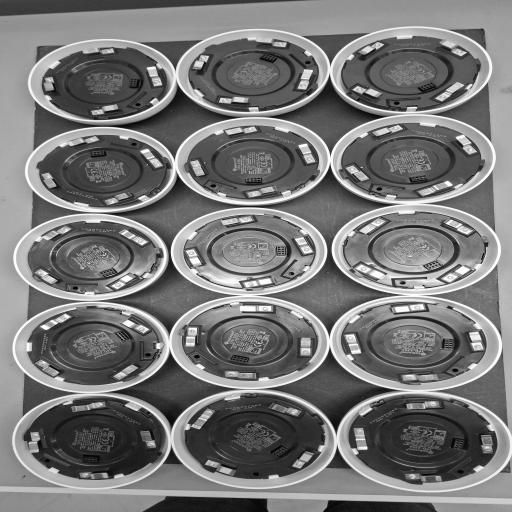konnektor: (228, 354, 254, 365), (448, 437, 466, 452), (98, 267, 117, 280), (422, 260, 444, 271), (270, 445, 288, 458), (79, 454, 102, 464), (86, 150, 114, 158), (407, 174, 431, 183), (258, 53, 279, 63), (112, 330, 129, 342), (417, 82, 436, 92), (442, 336, 454, 350), (275, 246, 289, 258), (128, 78, 144, 88), (246, 177, 266, 184)
yaysiz: (203, 459, 245, 478), (414, 180, 458, 197), (39, 312, 76, 332), (188, 408, 216, 434), (264, 401, 302, 420), (240, 272, 280, 290), (290, 231, 316, 258), (32, 357, 65, 378), (400, 469, 446, 484), (248, 34, 291, 50), (115, 228, 151, 247), (352, 263, 390, 281), (443, 262, 474, 284), (289, 448, 320, 470), (436, 39, 470, 59), (109, 362, 143, 382), (356, 217, 391, 236), (442, 217, 477, 236), (293, 142, 318, 168), (450, 133, 478, 156), (386, 300, 432, 314), (341, 331, 366, 356), (218, 124, 262, 138), (136, 427, 161, 451), (475, 430, 498, 456), (182, 248, 209, 270), (367, 123, 404, 139), (24, 429, 45, 457), (437, 82, 466, 102), (292, 68, 316, 92), (138, 148, 164, 170), (84, 103, 122, 118), (33, 266, 61, 286), (398, 370, 444, 382), (296, 332, 317, 358), (345, 164, 372, 184), (214, 217, 259, 229), (68, 400, 109, 413), (98, 192, 136, 206), (352, 84, 385, 100), (182, 326, 204, 350), (463, 328, 485, 352), (39, 226, 74, 241), (352, 426, 372, 452), (245, 185, 281, 199), (111, 272, 139, 290), (220, 368, 262, 380), (402, 399, 444, 411), (66, 134, 101, 148), (234, 305, 278, 316), (78, 45, 117, 57), (76, 468, 115, 480), (357, 41, 386, 57), (119, 317, 148, 333), (186, 158, 208, 179), (214, 95, 250, 107), (147, 65, 165, 88), (190, 53, 213, 71), (40, 172, 60, 190), (42, 75, 58, 95)
